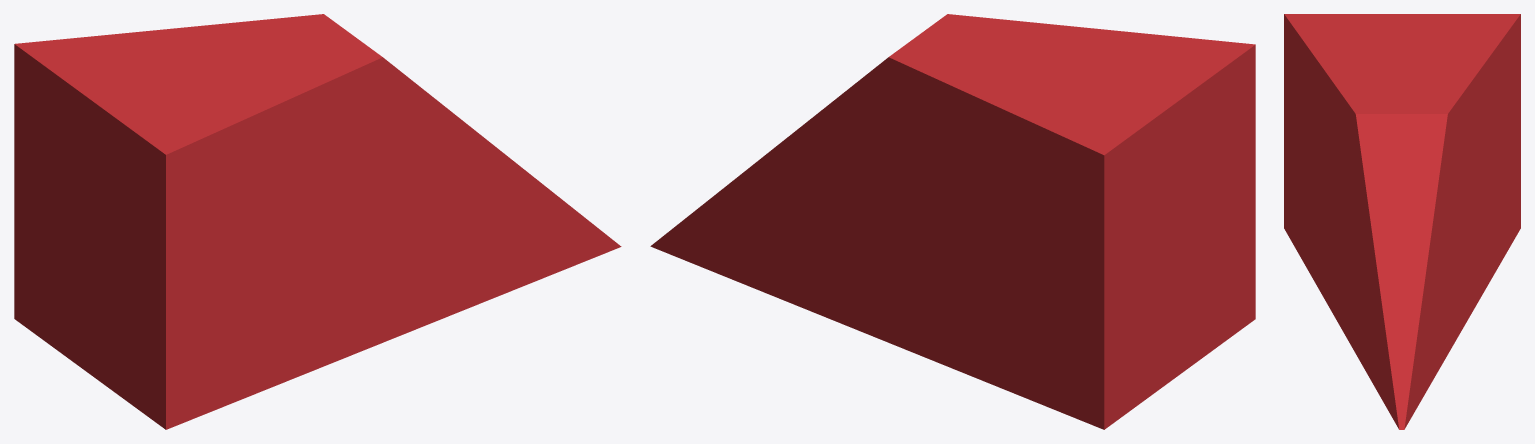
3 views of the same model, side by side, from view 1: azimuth 30°, elevation 25°; view 2: azimuth 150°, elevation 25°; view 3: azimuth 270°, elevation 25° (orthographic). The views are drawn at different scales.
Parts seen in each view (by area): view 1: Cube; view 2: Cube; view 3: Cube.
Part boxes in pixels (x1,y1,x2,y2): Cube: [14, 14, 621, 429]; Cube: [650, 14, 1255, 429]; Cube: [1284, 14, 1520, 429].
Bounding box in the file's own units: 403 × 200 × 200.
